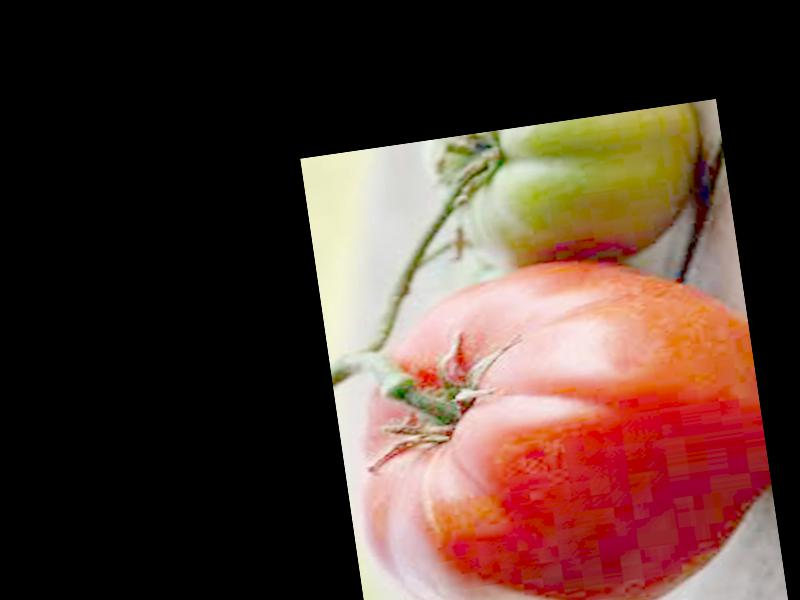Tomato: (328, 238, 787, 600)
